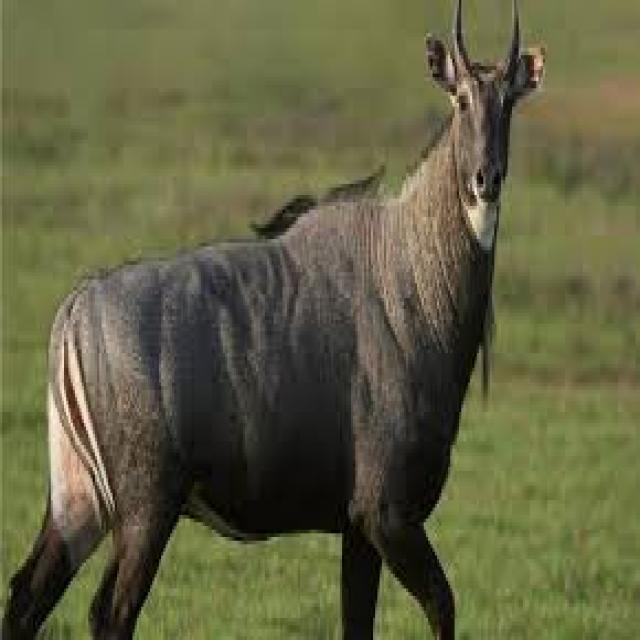objects: (0, 2, 582, 640)
